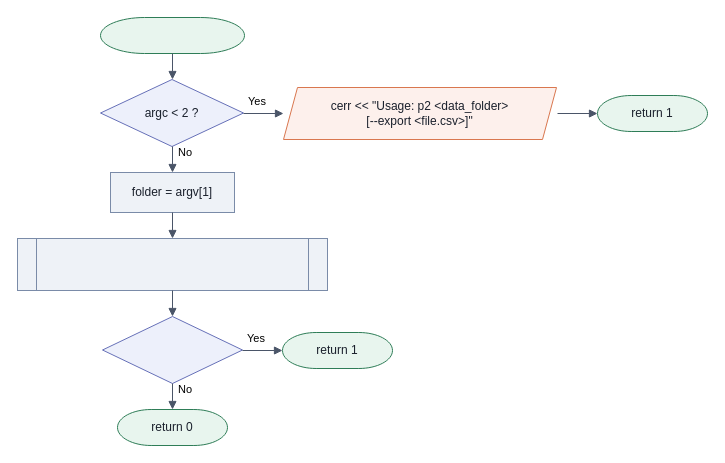
Some shapes in this 725 by 463 pixel diagram are drawn without their labels. The centre of each missing label's shape, as x and y in pixels:
!ok ?: (172,350)
main(argc, argv): (172,35)
ok = loadProducts(folder + "/products.csv", products): (172,264)
